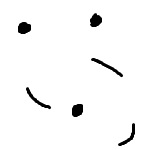Delle: (88, 11, 104, 28), (16, 20, 33, 35), (70, 102, 85, 118)
Kratzer: (89, 56, 124, 79), (25, 86, 52, 110), (117, 122, 136, 147)
